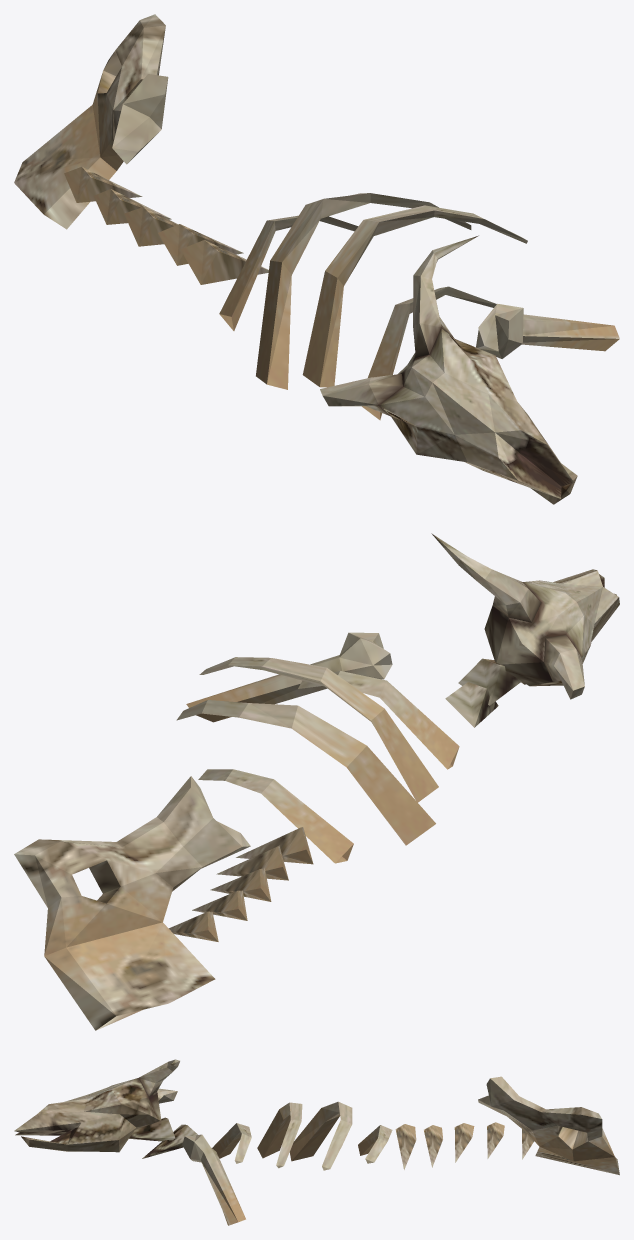
Rendered from C2SNBONE.obj.
The picture shows the model from 3 angles, top to bottom: view 1: azimuth 30°, elevation 25°; view 2: azimuth 150°, elevation 25°; view 3: azimuth 270°, elevation 25°; orthographic projection. The views are drawn at different scales.
Parts seen in each view (by area): view 1: Node 0; view 2: Node 0; view 3: Node 0.
Boxes of the visible parts, x1,y1,x2,y2 form: Node 0: [14, 14, 619, 504]; Node 0: [14, 533, 619, 1030]; Node 0: [14, 1059, 619, 1225].
Bounding box in the file's own units: 3.81 × 2.23 × 9.94.
1 material, 1 textured.
